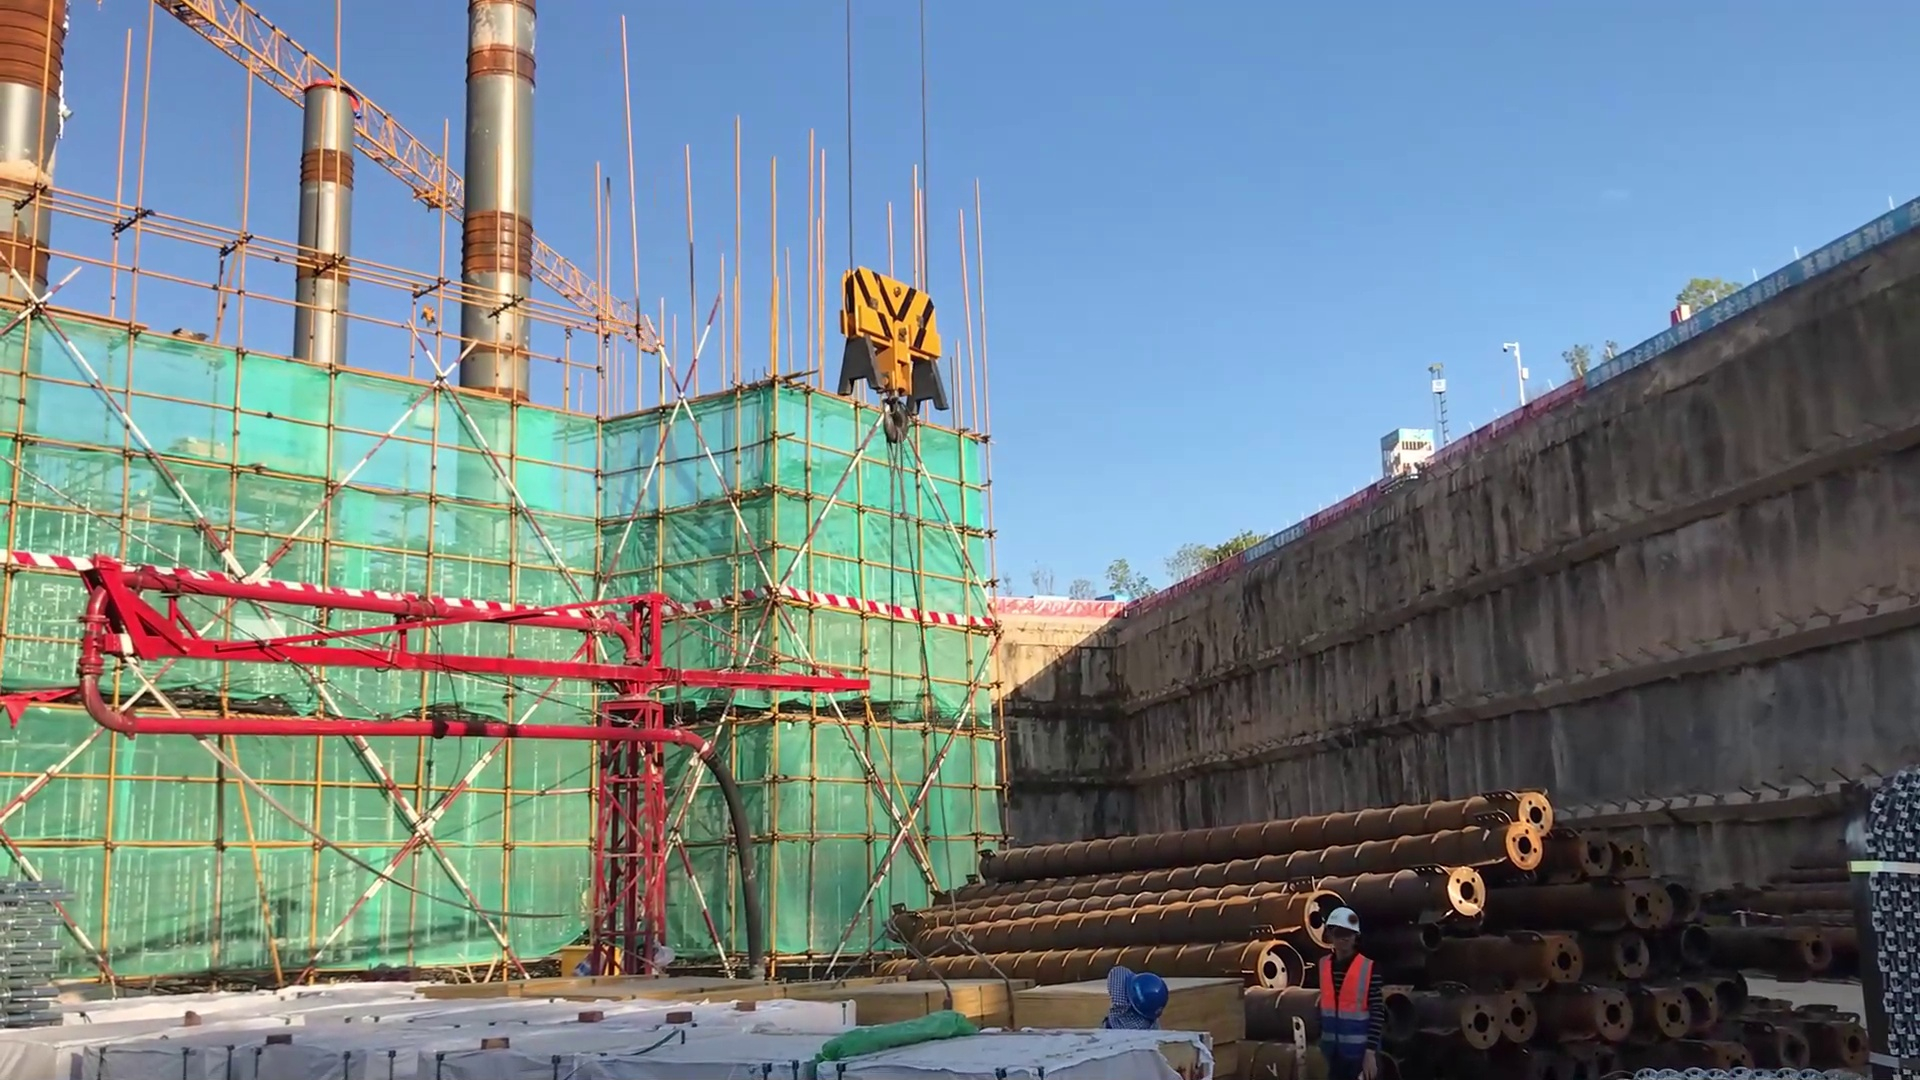board: (1007, 969, 1254, 1048), (796, 969, 1030, 1035)
ebox: (552, 939, 633, 985)
helmet: (1122, 969, 1173, 1027), (1318, 911, 1363, 951)
hook: (823, 259, 990, 470)
person: (1292, 906, 1386, 1080)
scaffold: (1851, 772, 1920, 1055)
slogan: (1556, 188, 1920, 396), (1237, 523, 1316, 564)
vest: (1317, 950, 1378, 1066)
